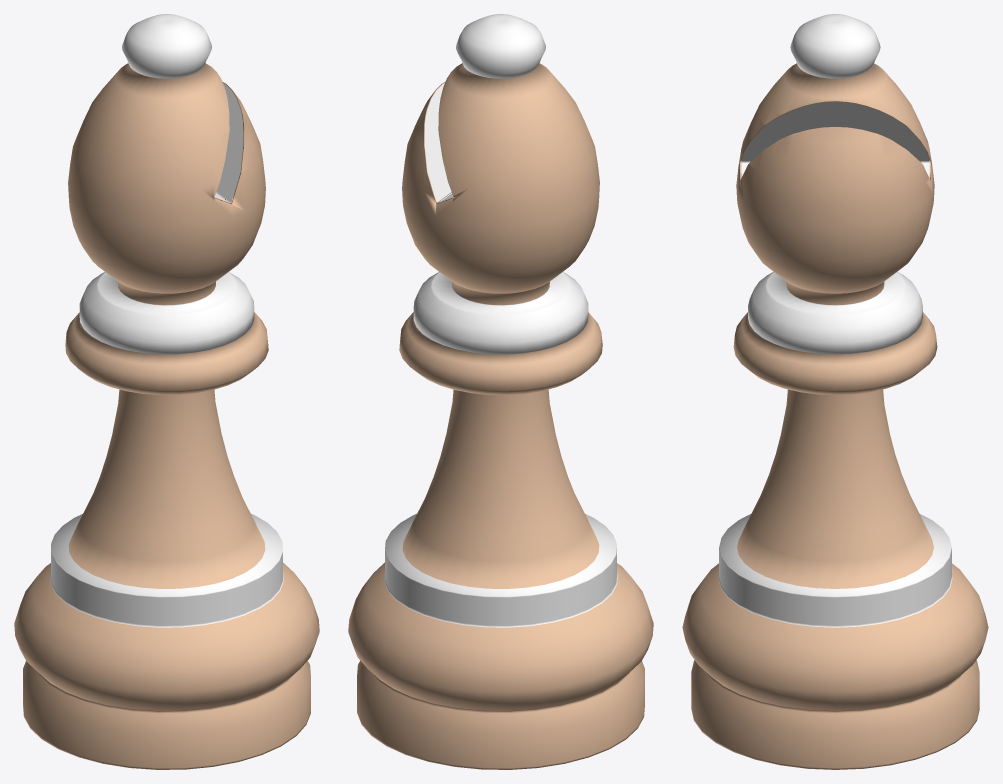
File: bishop_white.glb
3 views of the same model, side by side, from view 1: azimuth 30°, elevation 25°; view 2: azimuth 150°, elevation 25°; view 3: azimuth 270°, elevation 25° (orthographic).
Parts seen in each view (by area): view 1: Alfil.001; view 2: Alfil.001; view 3: Alfil.001.
Part boxes in pixels (x1,y1,x2,y2): Alfil.001: [14, 14, 319, 769]; Alfil.001: [348, 14, 653, 769]; Alfil.001: [682, 14, 988, 769].
Bounding box in the file's own units: 0.2648 × 0.6572 × 0.2648.
